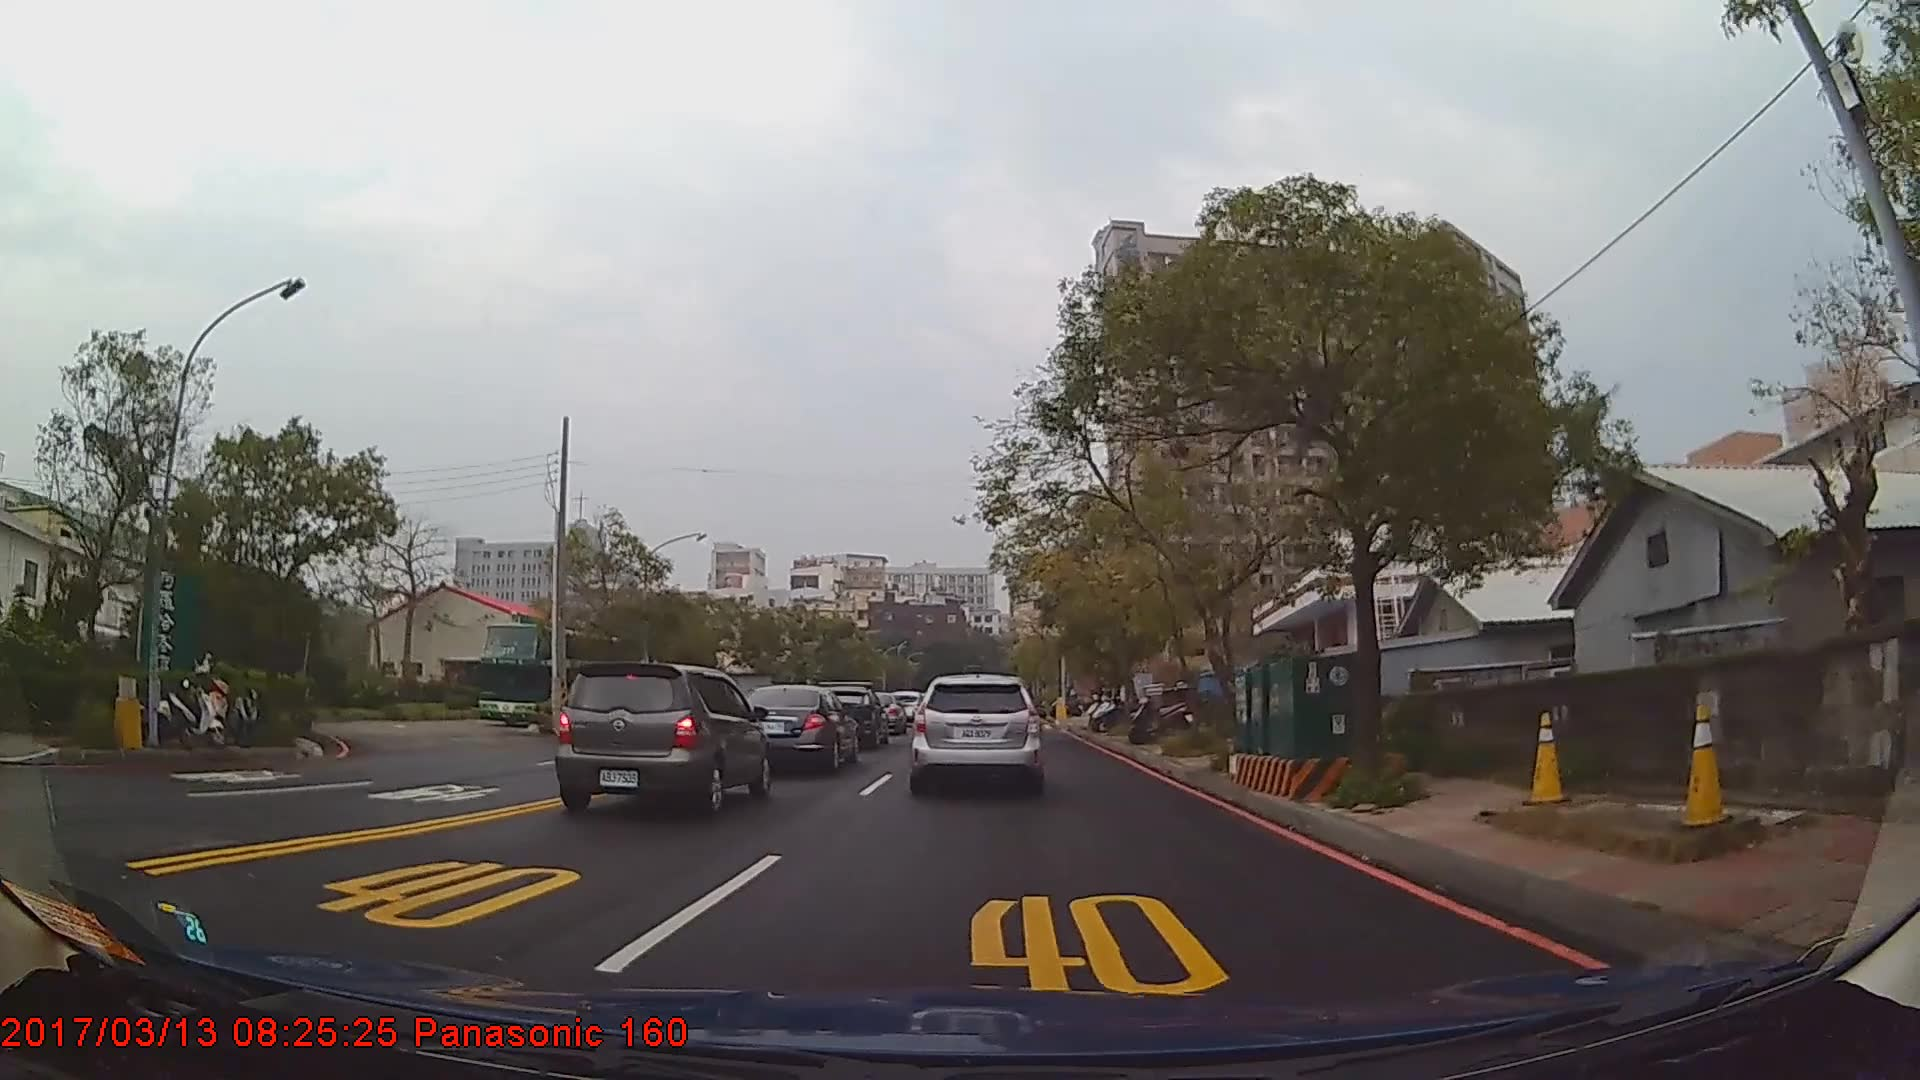vehicle: (553, 662, 771, 820), (477, 622, 647, 733), (909, 674, 1043, 794), (735, 683, 858, 775), (814, 687, 886, 752)
